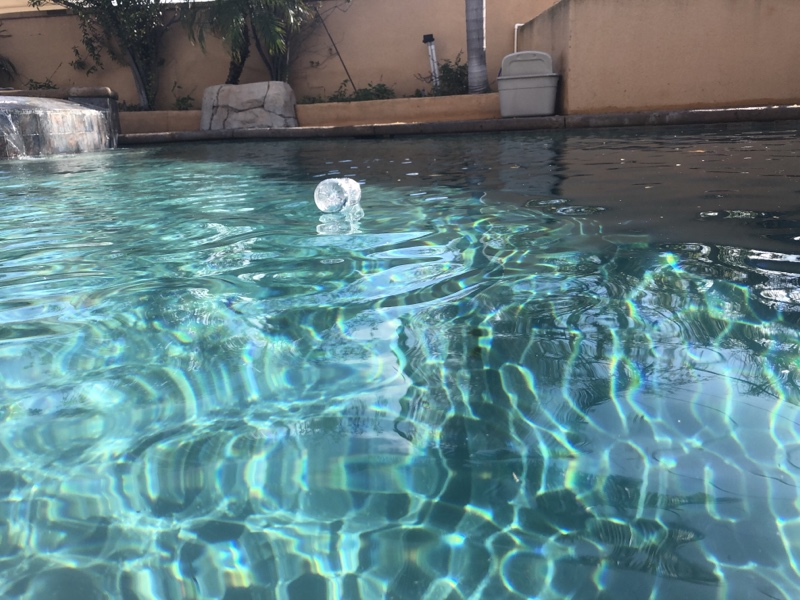Plastic Bottle: (308, 171, 367, 214)
